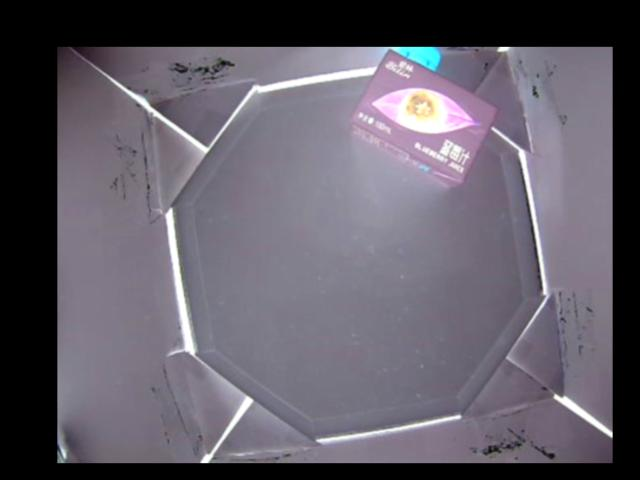Bottle: (351, 47, 499, 189)
